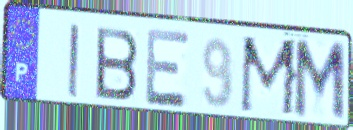9: (200, 34, 237, 110)
B: (94, 24, 141, 103)
E: (145, 26, 192, 110)
I: (66, 22, 81, 101)
M: (237, 34, 301, 120), (292, 39, 348, 125)
